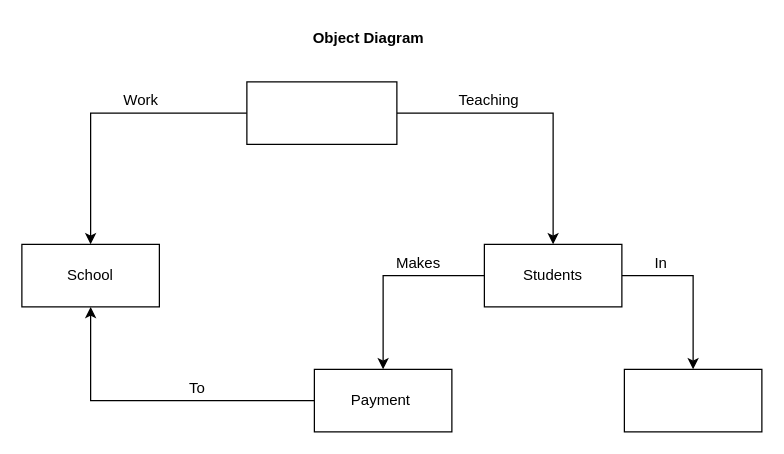
Some shapes in this 784 by 454 pixel diagram are drawn without their labels. Each missing label, with the centre of its shape:
"Classroom" goes at point (692, 400).
"Employees" goes at point (321, 112).
